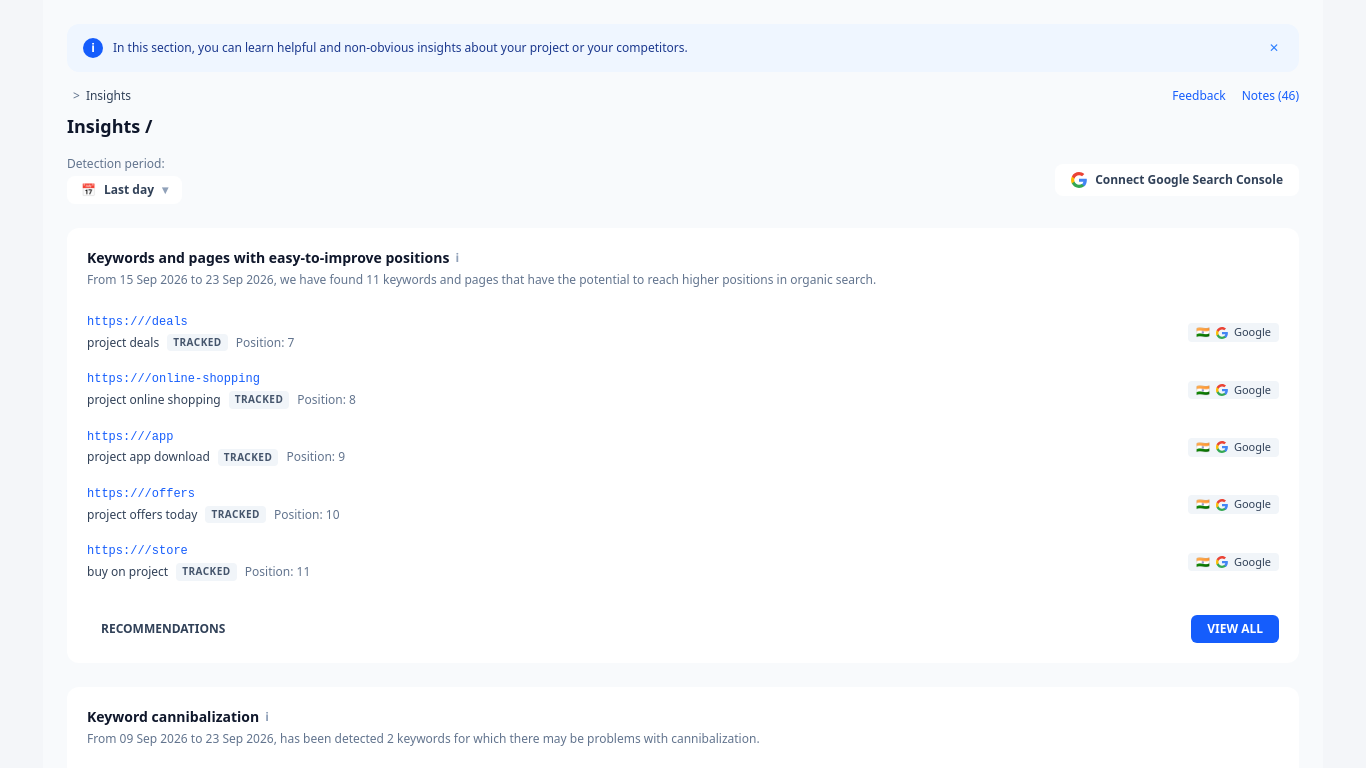
Scenario: ProjectInsightsView Component › opens and closes the Easy-to-Improve Positions recommendation modal
The width and height of the screenshot is (1366, 768).
Click the button "RECOMMENDATIONS" at x=163, y=629, box top-left (87, 615), bottom-right (239, 643)
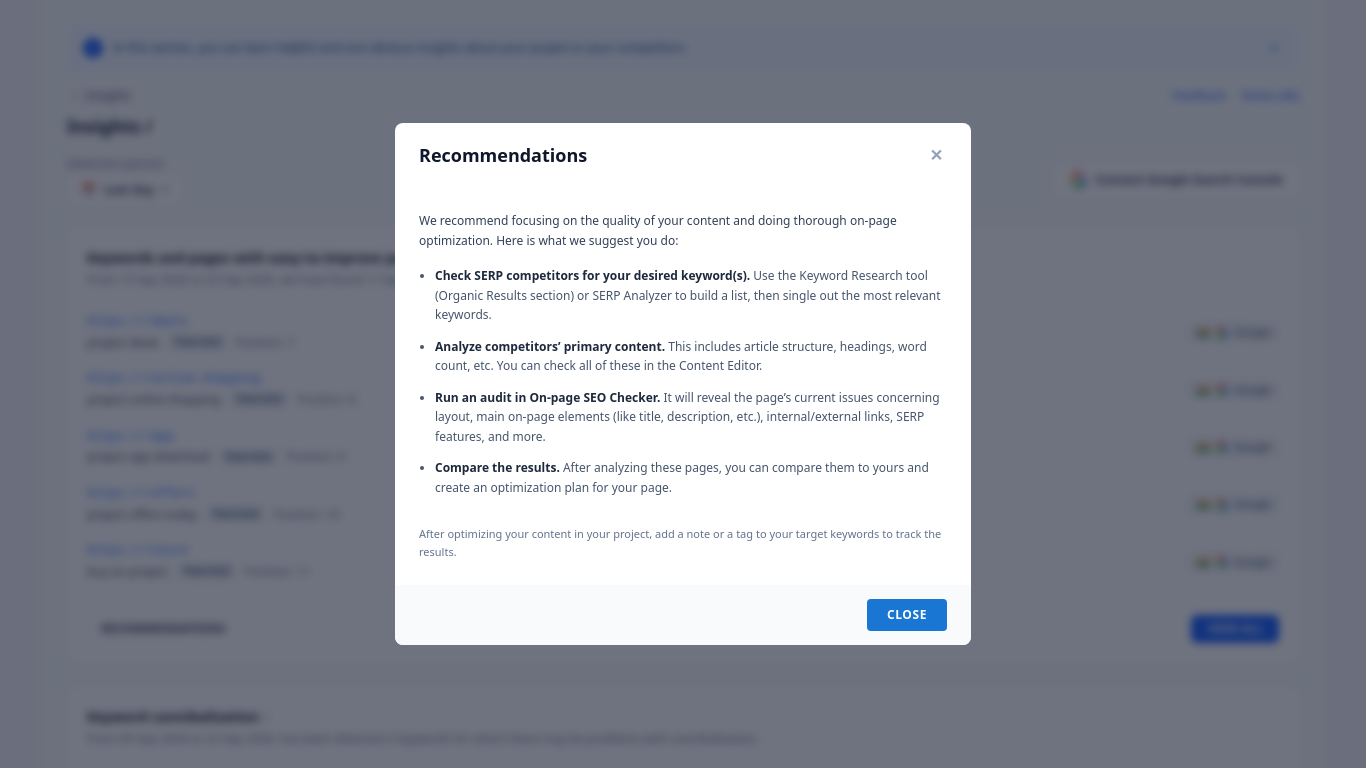
Check: the dialog is shown
Check: the text "Check SERP competitors for your desired keyword(s)." is shown, box top-left (435, 267), bottom-right (750, 284)
Click the button "CLOSE" at x=907, y=615, box top-left (867, 599), bottom-right (947, 631)
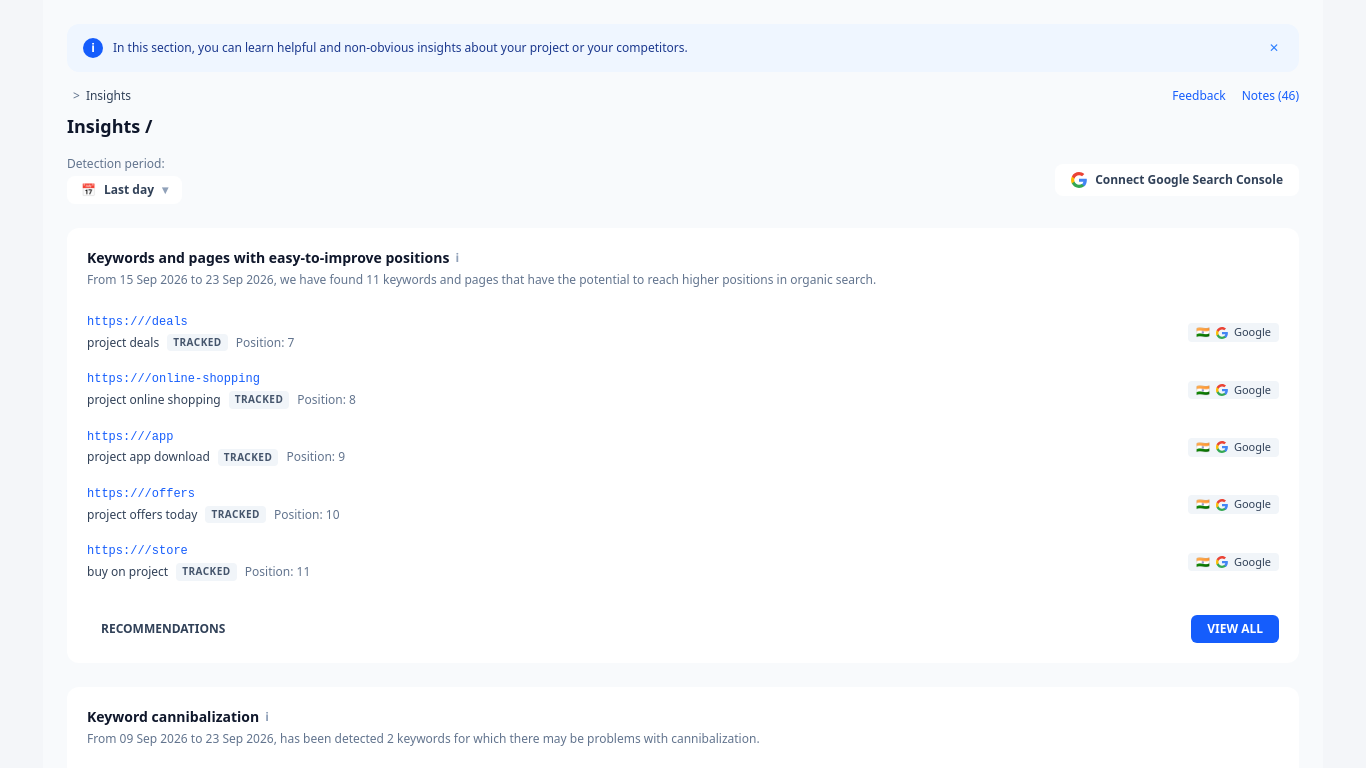
Check: the dialog is gone
